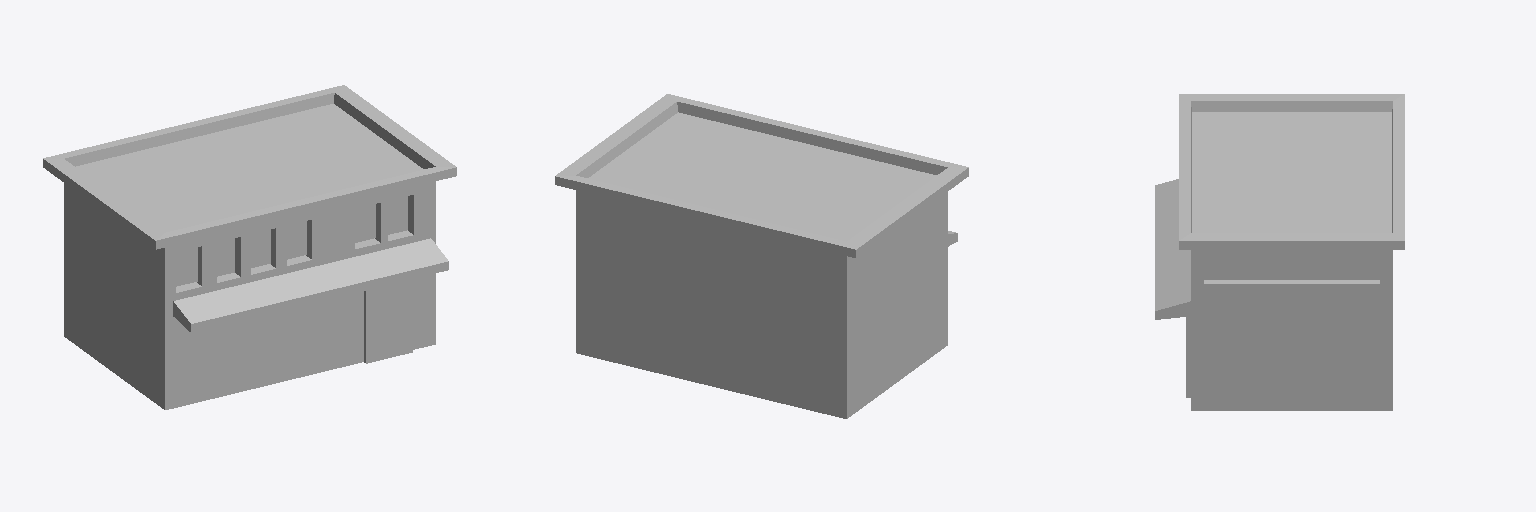
Rendered from Building6.obj.
3 views of the same model, side by side, from view 1: azimuth 30°, elevation 25°; view 2: azimuth 150°, elevation 25°; view 3: azimuth 270°, elevation 25° (orthographic).
Parts seen in each view (by area): view 1: Building6_Cube.006; view 2: Building6_Cube.006; view 3: Building6_Cube.006.
Part boxes in pixels (x1,y1,x2,y2): Building6_Cube.006: (43, 85, 456, 409); Building6_Cube.006: (555, 94, 968, 418); Building6_Cube.006: (1155, 94, 1404, 410).
Bounding box in the file's own units: 11.5 × 6.48 × 8.25.